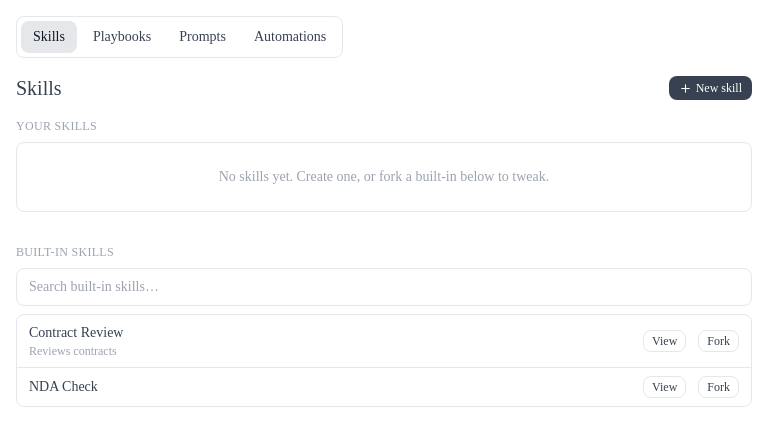
Scenario: /skills index › filters built-ins by the search query
Type "nda" into the field labelled "Search built-in skills" at (384, 287), box top-left (16, 268), bottom-right (752, 306)
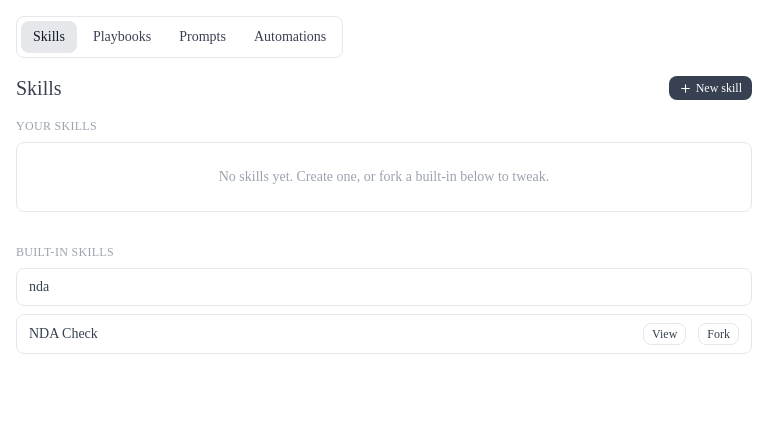
expect the text "NDA Check" is shown: met, box top-left (29, 326), bottom-right (98, 341)
expect the text "Contract Review" is gone: met
